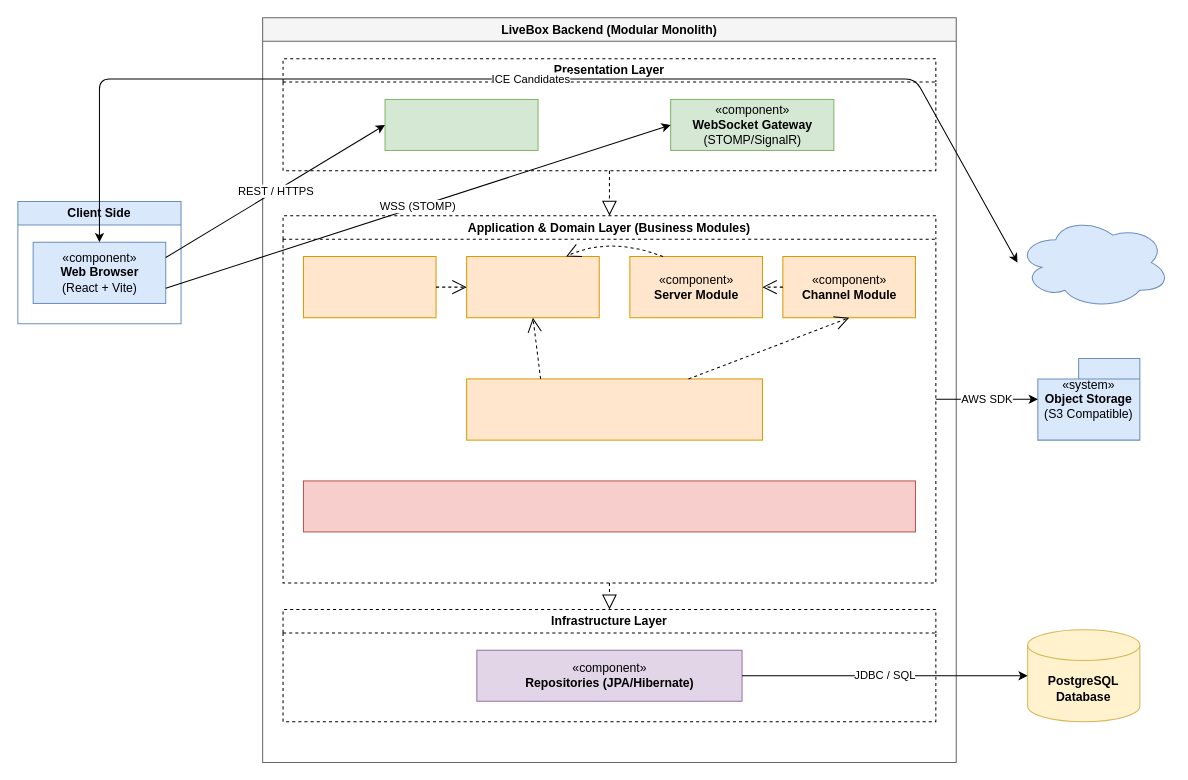
The diagram is 1188 pixels wide and 780 high, and some of its shapes have lost their labels. The shapes that lost their labels are listed below. From the top down, each one's centre as x and y in pixels, then its label:
point (461, 124): «interface» REST Controllers
point (1093, 262): «system» STUN/TURN Server (WebRTC Connectivity)
point (369, 287): «component» Auth Module (JWT Logic)
point (532, 287): «component» User Module
point (614, 409): «component» Message Module
point (608, 506): «component» Common Kernel (Shared DTOs/Utils)
